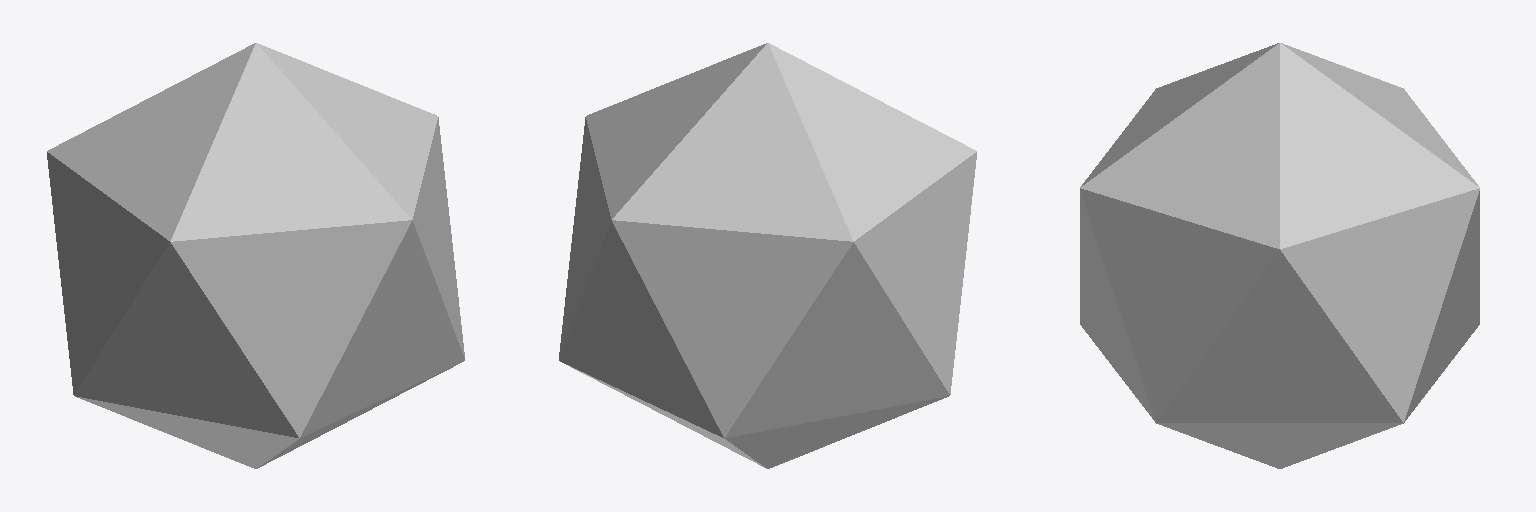
The model's file is light.obj.
3 views of the same model, side by side, from view 1: azimuth 30°, elevation 25°; view 2: azimuth 150°, elevation 25°; view 3: azimuth 270°, elevation 25° (orthographic).
Visible parts, largest first — view 1: Icosphere; view 2: Icosphere; view 3: Icosphere.
Boxes of the visible parts, x1=… form: Icosphere: x1=47, y1=43, x2=464, y2=468; Icosphere: x1=559, y1=43, x2=976, y2=468; Icosphere: x1=1080, y1=43, x2=1479, y2=468.
Bounding box in the file's own units: 0.3526 × 0.3942 × 0.3353.